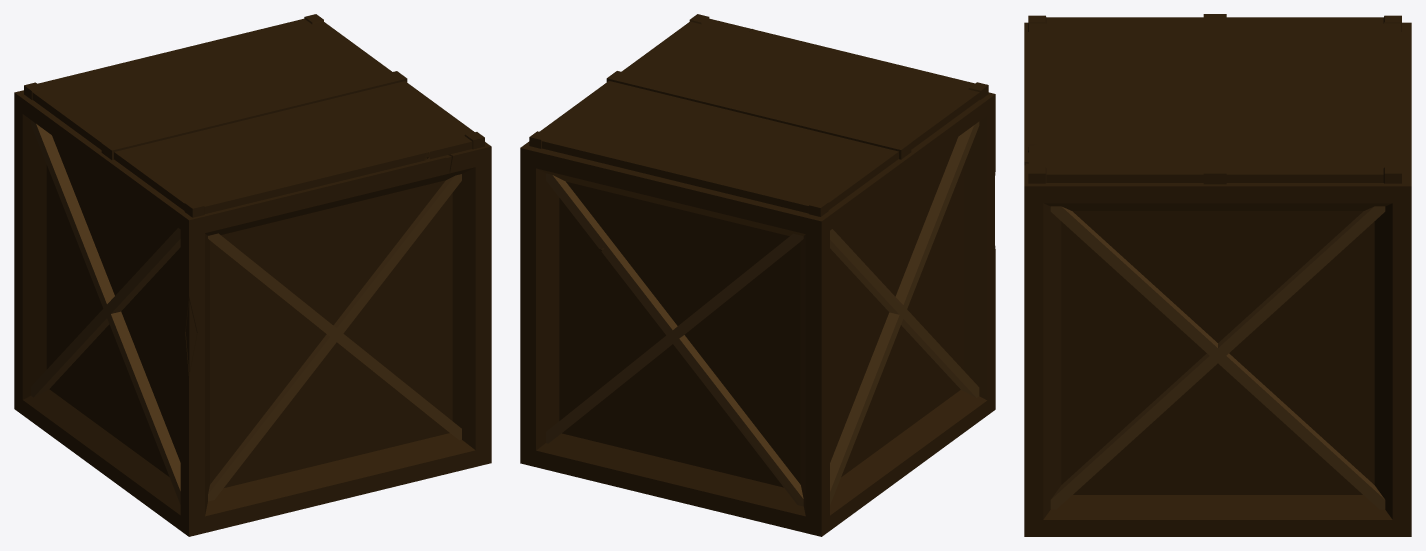
3 renders of one model, left to right at view 1: azimuth 30°, elevation 25°; view 2: azimuth 150°, elevation 25°; view 3: azimuth 270°, elevation 25°, orthographic. The views are drawn at different scales.
Parts seen in each view (by area): view 1: polySurface7; view 2: polySurface7; view 3: polySurface7.
Boxes of the visible parts, x1,y1,x2,y2 form: polySurface7: (14,14,491,536); polySurface7: (520,14,995,536); polySurface7: (1024,14,1411,536).
Size of the model in its own units: 33.1 by 34.1 by 33.1.
